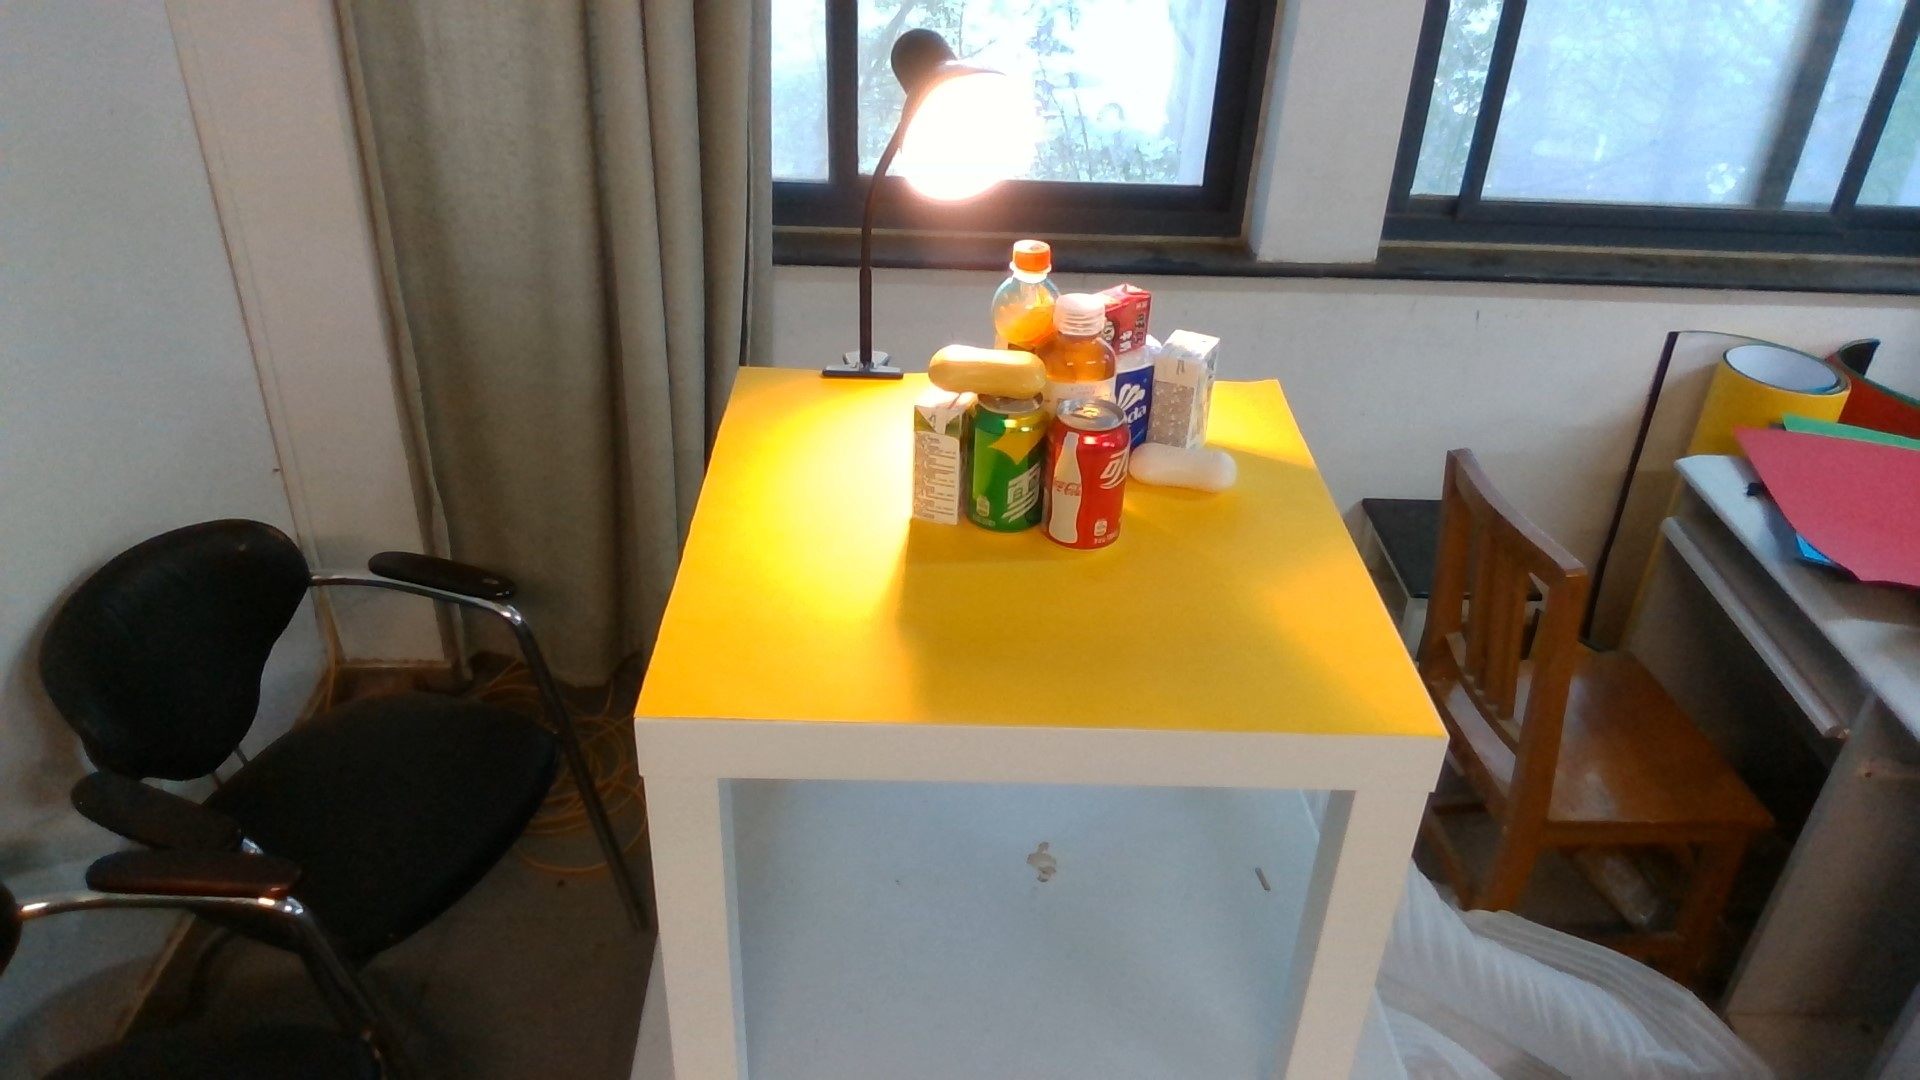BB003: (924, 342, 1043, 396), (1131, 440, 1236, 496)
BB009: (913, 404, 969, 525)
BB012: (1109, 285, 1151, 348)
BB013: (1154, 324, 1218, 439)
CA002: (1120, 353, 1155, 400)
ZC001: (971, 392, 1044, 535)
ZC002: (1047, 398, 1129, 549)
ZC006: (993, 237, 1043, 349)
ZC012: (1044, 295, 1112, 400)
